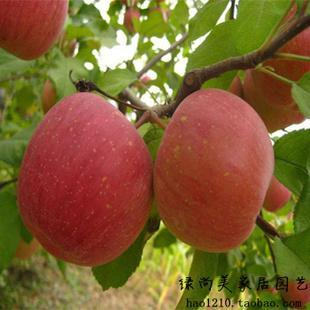apple: (18, 98, 154, 274), (152, 87, 275, 255)
